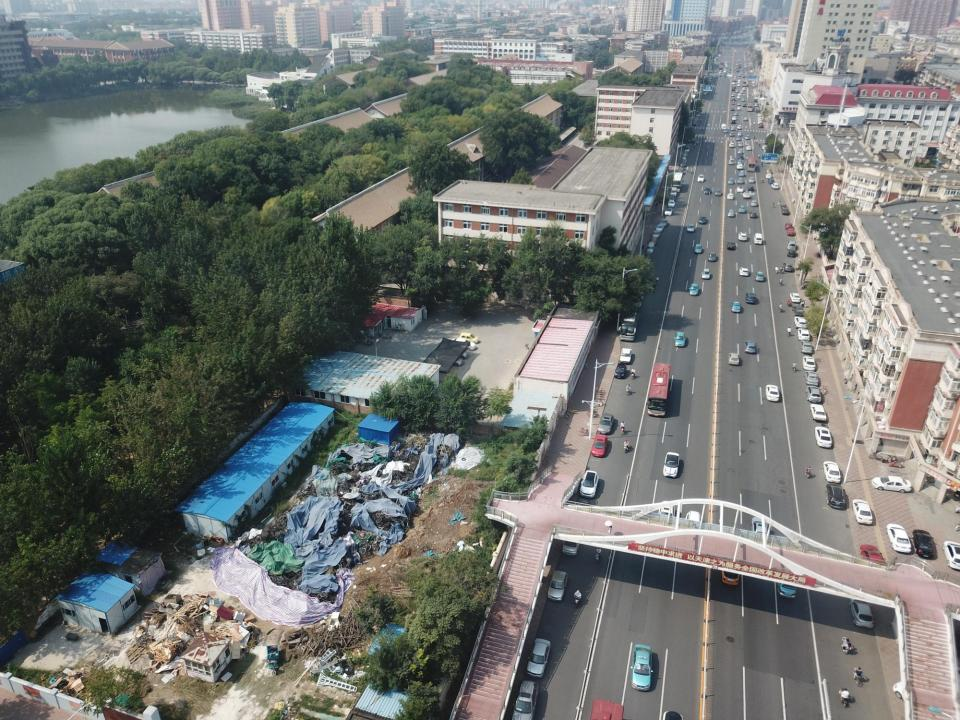bus: (646, 362, 671, 417), (618, 299, 636, 341), (747, 157, 756, 172)
car: (509, 678, 540, 720), (630, 643, 654, 692), (524, 638, 552, 679), (848, 595, 875, 629), (859, 544, 886, 578), (886, 524, 912, 554), (871, 476, 912, 494), (547, 569, 568, 603), (912, 528, 934, 558), (776, 570, 797, 600), (684, 510, 704, 539), (824, 483, 846, 509), (579, 469, 598, 499), (852, 499, 873, 525), (721, 556, 739, 586), (942, 540, 960, 570), (657, 500, 676, 528), (751, 515, 769, 544), (590, 433, 608, 458), (663, 452, 680, 478), (823, 461, 841, 483), (814, 426, 832, 448), (438, 346, 468, 359), (597, 413, 614, 435), (436, 353, 464, 366), (451, 338, 476, 352), (805, 385, 822, 403), (810, 404, 827, 421), (764, 384, 780, 402), (458, 332, 479, 344), (802, 356, 817, 371), (804, 370, 818, 386), (614, 362, 627, 379), (798, 340, 813, 354), (619, 348, 632, 364), (674, 332, 686, 348), (794, 316, 808, 329), (797, 328, 810, 341), (744, 341, 756, 354), (728, 352, 739, 366), (745, 292, 756, 305), (791, 306, 805, 316), (689, 283, 699, 296), (789, 293, 801, 303), (731, 301, 741, 313), (738, 266, 750, 276), (755, 271, 765, 282), (782, 262, 793, 272), (738, 232, 748, 241), (702, 268, 710, 279), (787, 248, 796, 257), (659, 218, 668, 227), (651, 230, 660, 239), (708, 252, 716, 262), (727, 241, 735, 251), (698, 215, 706, 225), (694, 244, 702, 253), (686, 224, 695, 232), (786, 228, 795, 236), (664, 207, 672, 216), (728, 210, 736, 218), (748, 176, 756, 184), (667, 200, 675, 208), (648, 237, 656, 245), (736, 185, 744, 193), (784, 223, 793, 230), (781, 208, 789, 215), (697, 174, 704, 182), (771, 182, 779, 189), (678, 166, 685, 174), (742, 192, 751, 198), (738, 206, 745, 213), (727, 193, 734, 200), (767, 177, 774, 184), (749, 212, 757, 218), (704, 187, 710, 195), (680, 158, 686, 166), (750, 200, 757, 206), (715, 188, 721, 195), (766, 172, 772, 179), (738, 170, 744, 177), (729, 158, 735, 165), (736, 164, 743, 170), (728, 178, 734, 184), (737, 177, 743, 183), (736, 159, 742, 165), (728, 142, 734, 148), (748, 186, 754, 192), (744, 134, 750, 140), (685, 146, 690, 153), (738, 148, 743, 154), (729, 132, 735, 137), (745, 146, 752, 150), (738, 142, 743, 147), (736, 136, 740, 141), (737, 132, 742, 136)
truck: (574, 594, 581, 607)
van: (562, 526, 581, 556), (672, 172, 684, 189), (753, 233, 762, 245), (787, 240, 796, 250), (670, 187, 677, 197), (656, 224, 664, 232), (682, 153, 688, 159)
